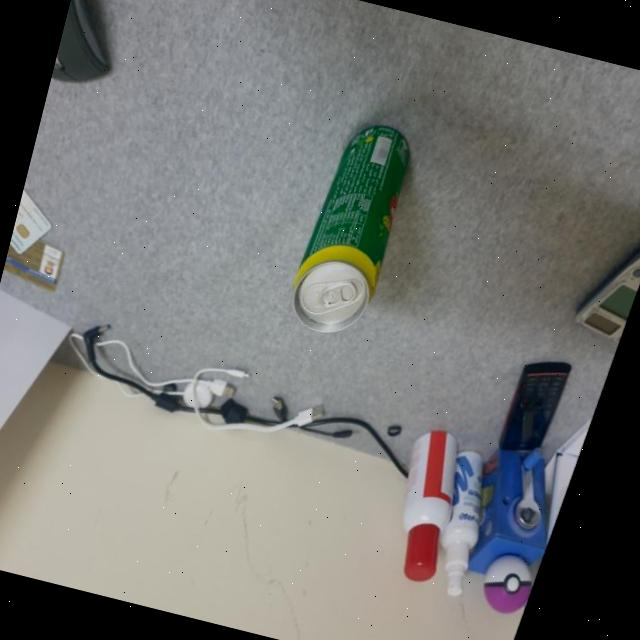trash: (274, 107, 432, 350)
